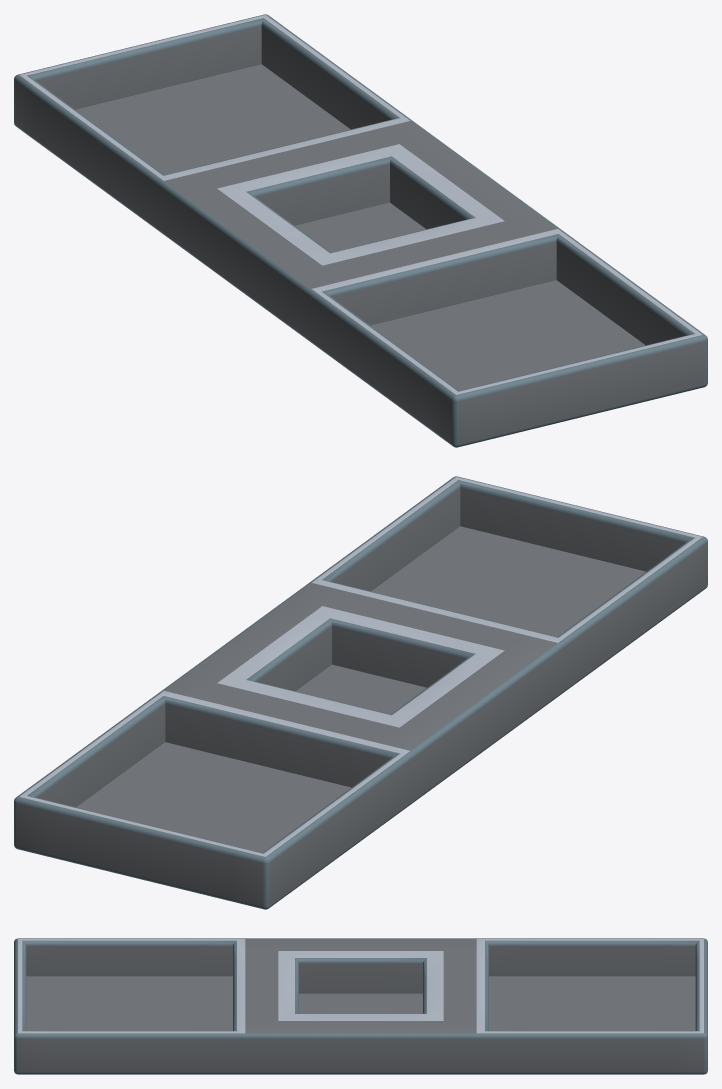
The model's file is baseplat.fbx.
3 renders of one model, top to bottom at view 1: azimuth 30°, elevation 25°; view 2: azimuth 150°, elevation 25°; view 3: azimuth 270°, elevation 25°, orthographic. The views are drawn at different scales.
Parts seen in each view (by area): view 1: base_plat; view 2: base_plat; view 3: base_plat.
Part boxes in pixels (box(x1,y1,x2,y2)): base_plat: box(14, 14, 707, 447); base_plat: box(14, 476, 707, 909); base_plat: box(14, 938, 707, 1074).
Size of the model in its own units: 200 by 39.09 by 600.
